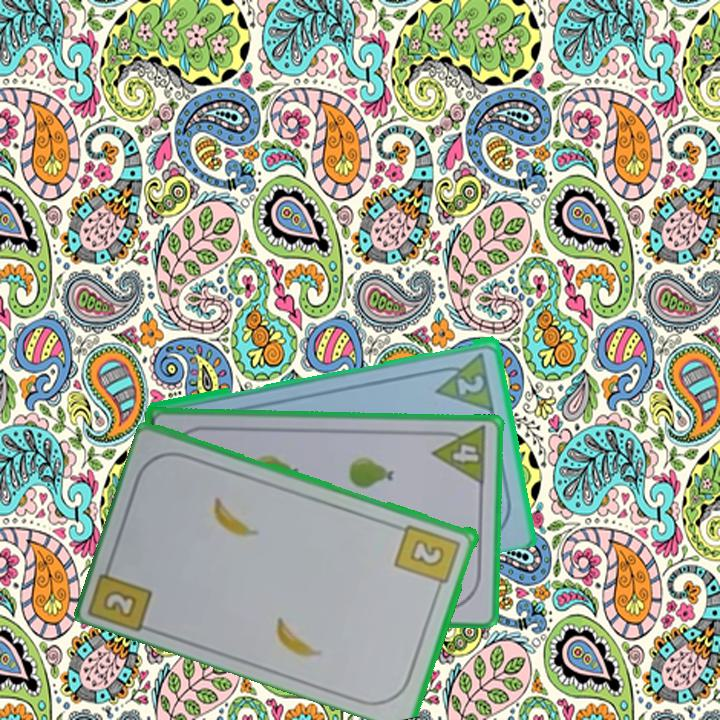2b: (392, 520, 464, 595), (100, 586, 141, 621)
2p: (454, 371, 487, 397)
4p: (430, 423, 489, 488)
